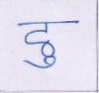u_matra: (25, 55, 57, 69)
